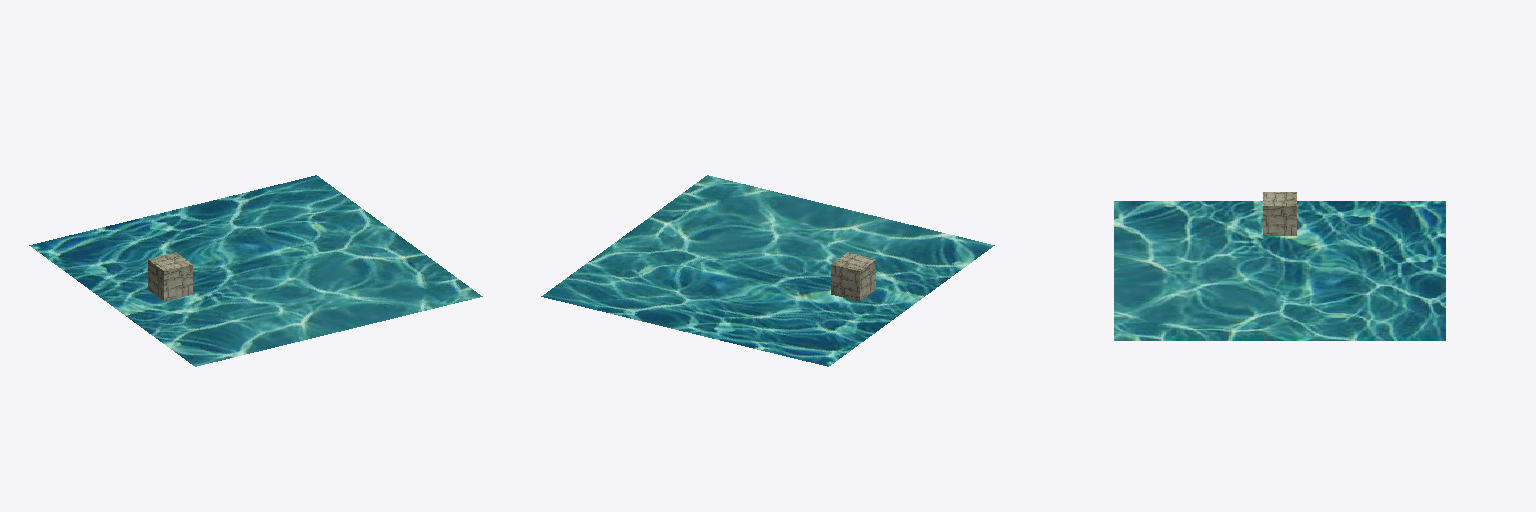
The picture shows the model from 3 angles: view 1: azimuth 30°, elevation 25°; view 2: azimuth 150°, elevation 25°; view 3: azimuth 270°, elevation 25°; orthographic projection.
Parts seen in each view (by area): view 1: Plane, Cube; view 2: Plane, Cube; view 3: Plane, Cube.
Boxes of the visible parts, x1=… form: Plane: x1=29, y1=175, x2=482, y2=366; Cube: x1=148, y1=252, x2=192, y2=300; Plane: x1=541, y1=175, x2=994, y2=366; Cube: x1=831, y1=252, x2=875, y2=300; Plane: x1=1114, y1=201, x2=1445, y2=340; Cube: x1=1263, y1=192, x2=1296, y2=235.
Size of the model in its own units: 10 by 1 by 10.
2 materials, 2 textured.